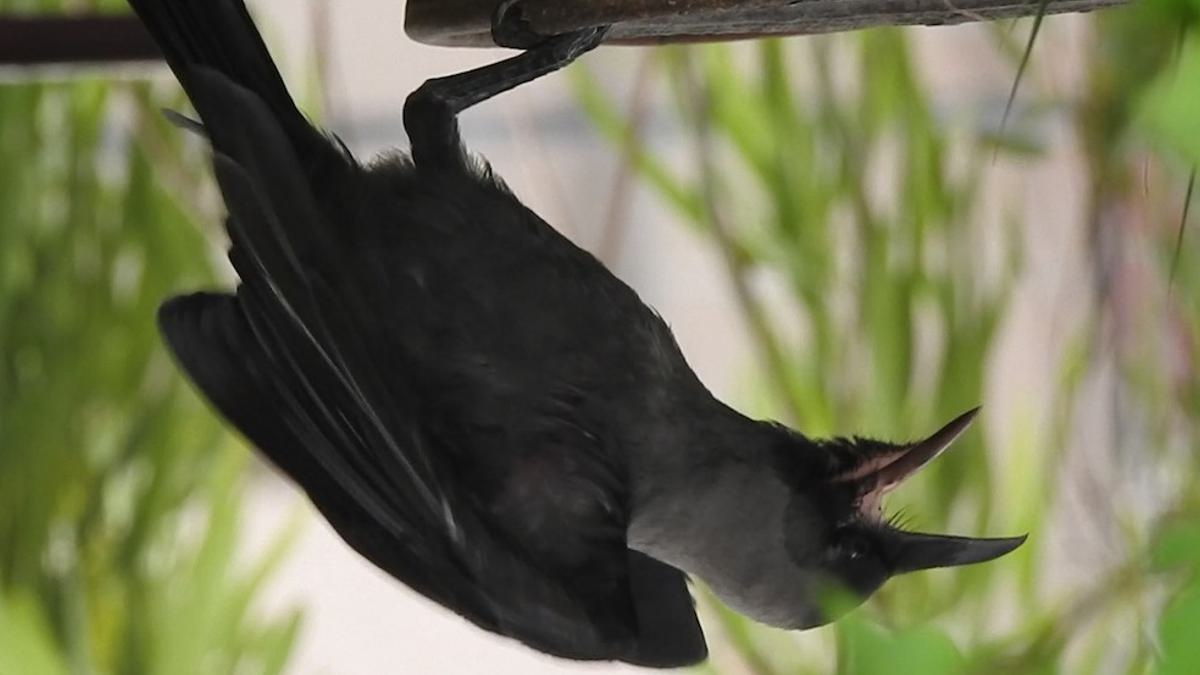crow: (1, 1, 1026, 633)
